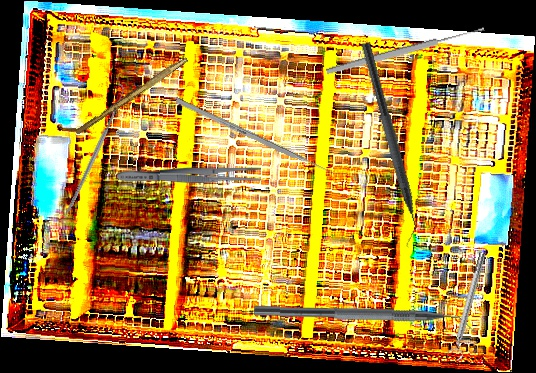Chopper: (346, 40, 429, 250), (253, 305, 478, 335)
Dressing Forceps: (116, 164, 262, 186)
Fixation Ring: (444, 250, 493, 362)
Hook Surgical: (24, 82, 165, 214)
Pusher: (175, 97, 340, 179)
Scalpel Handle: (74, 53, 189, 138)
Surgical Spoon: (325, 25, 486, 76)
